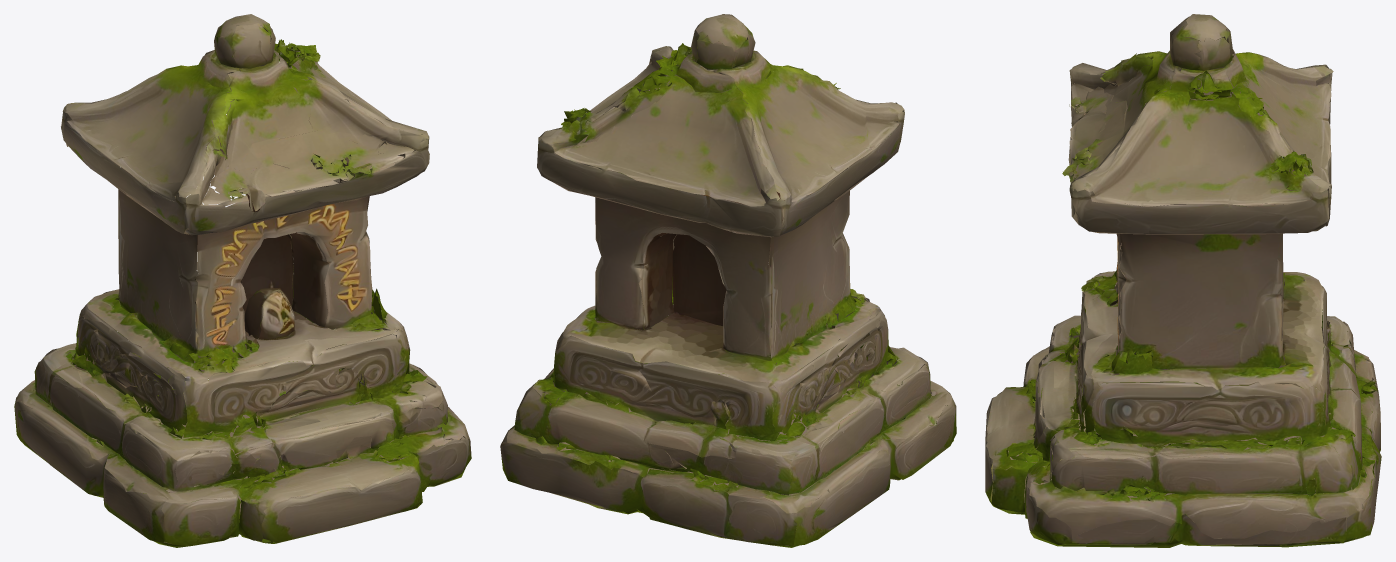
File: BLD_Research.fbx
3 renders of one model, left to right at view 1: azimuth 30°, elevation 25°; view 2: azimuth 150°, elevation 25°; view 3: azimuth 270°, elevation 25°, orthographic. The views are drawn at different scales.
Parts seen in each view (by area): view 1: BLD_Research; view 2: BLD_Research; view 3: BLD_Research.
Part boxes in pixels (bbox=[...]): BLD_Research: bbox=[14, 14, 471, 547]; BLD_Research: bbox=[500, 14, 956, 547]; BLD_Research: bbox=[985, 14, 1381, 547].
Bounding box in the file's own units: 1.67 × 2.15 × 1.7.
1 material, 1 textured.
